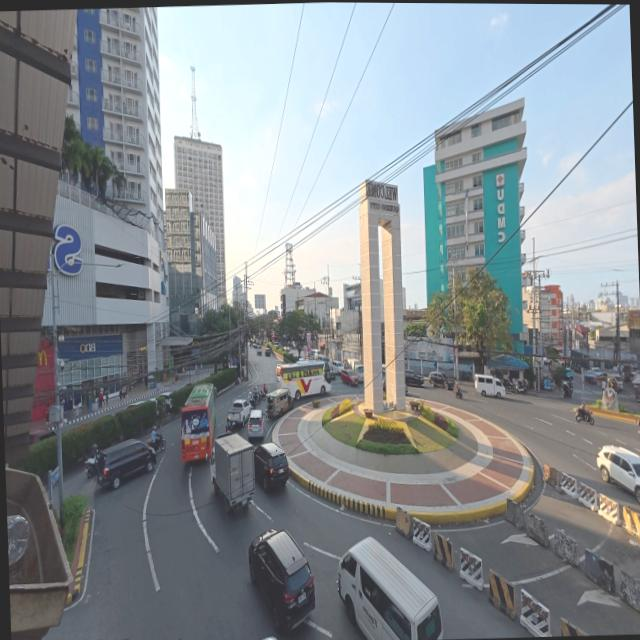Jeepneys: (266, 389, 292, 418)
bus: (180, 384, 215, 460), (276, 361, 330, 399)
car: (248, 530, 313, 631), (96, 439, 155, 489), (596, 445, 639, 504), (253, 443, 289, 488), (247, 410, 263, 440), (428, 371, 454, 389), (28, 429, 54, 444), (339, 369, 358, 386), (404, 370, 423, 386), (607, 375, 622, 391), (124, 400, 146, 409), (329, 363, 339, 379), (331, 360, 342, 371), (590, 367, 602, 376), (381, 370, 385, 391), (256, 345, 262, 355), (264, 347, 270, 356), (264, 637, 276, 639), (640, 395, 640, 409)
motorcycle: (85, 448, 98, 479), (575, 407, 593, 424), (147, 433, 165, 450), (247, 390, 258, 407), (252, 387, 264, 401), (513, 383, 526, 394), (563, 383, 572, 398), (453, 388, 462, 398), (637, 421, 639, 436)
trucks: (210, 434, 253, 510), (226, 399, 250, 431)
vans: (337, 538, 442, 639), (474, 375, 504, 397)
